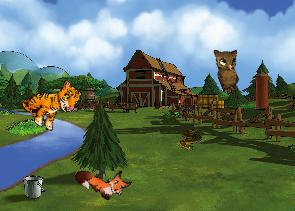fox: (72, 151, 134, 208)
owl: (208, 42, 251, 96)
tiger: (17, 67, 85, 137)
